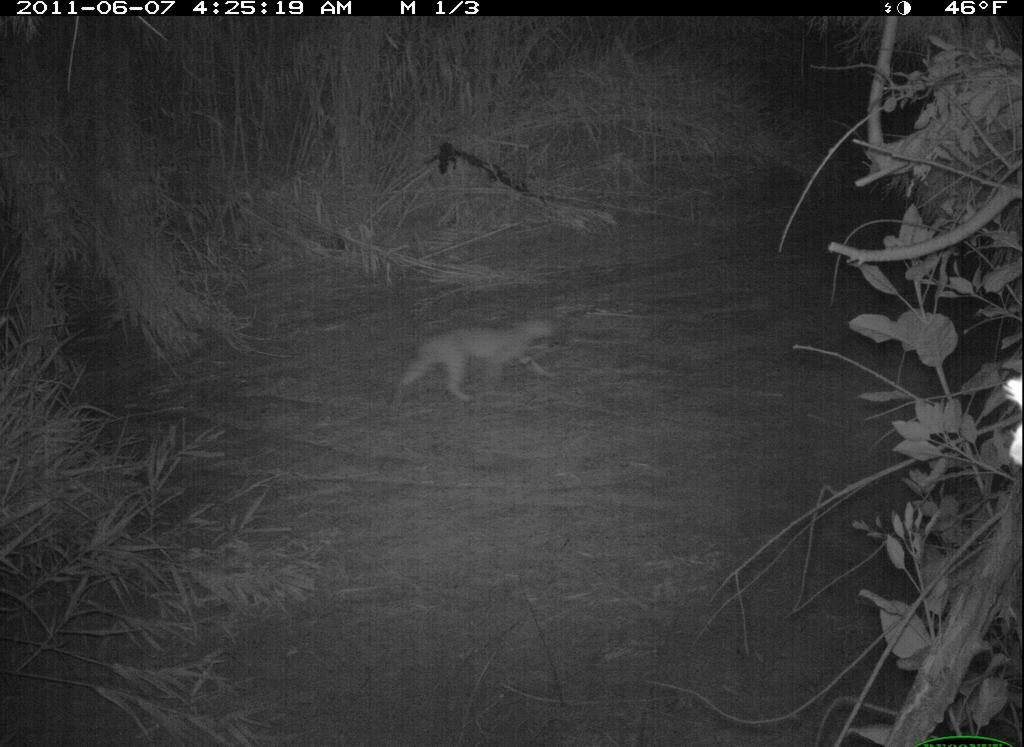bobcat: (366, 284, 594, 434)
